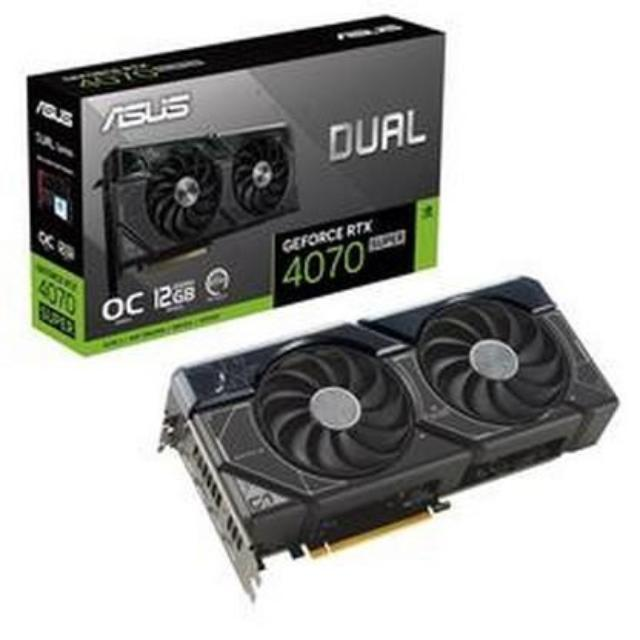GPU: (146, 274, 623, 602)
